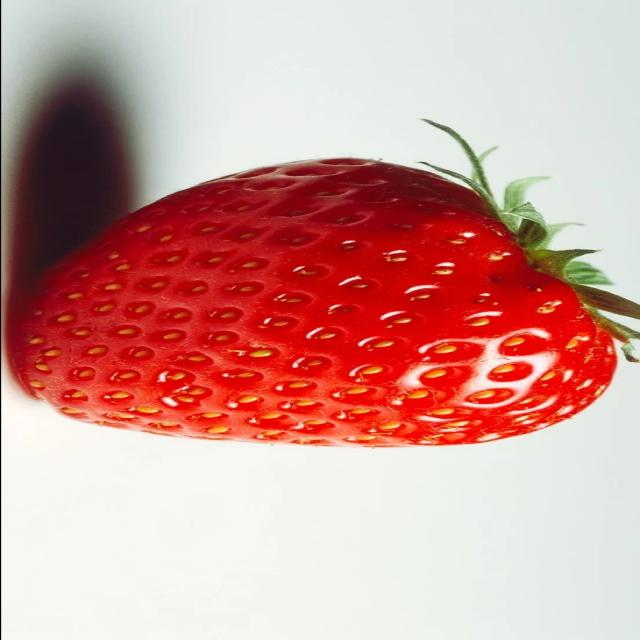strawberry: (0, 120, 640, 461)
